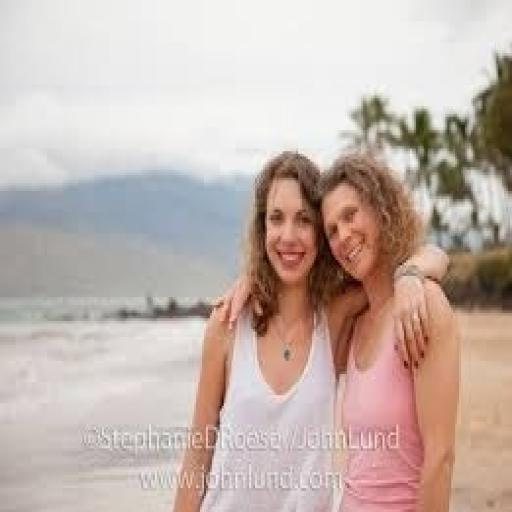hugging: (165, 146, 461, 509)
